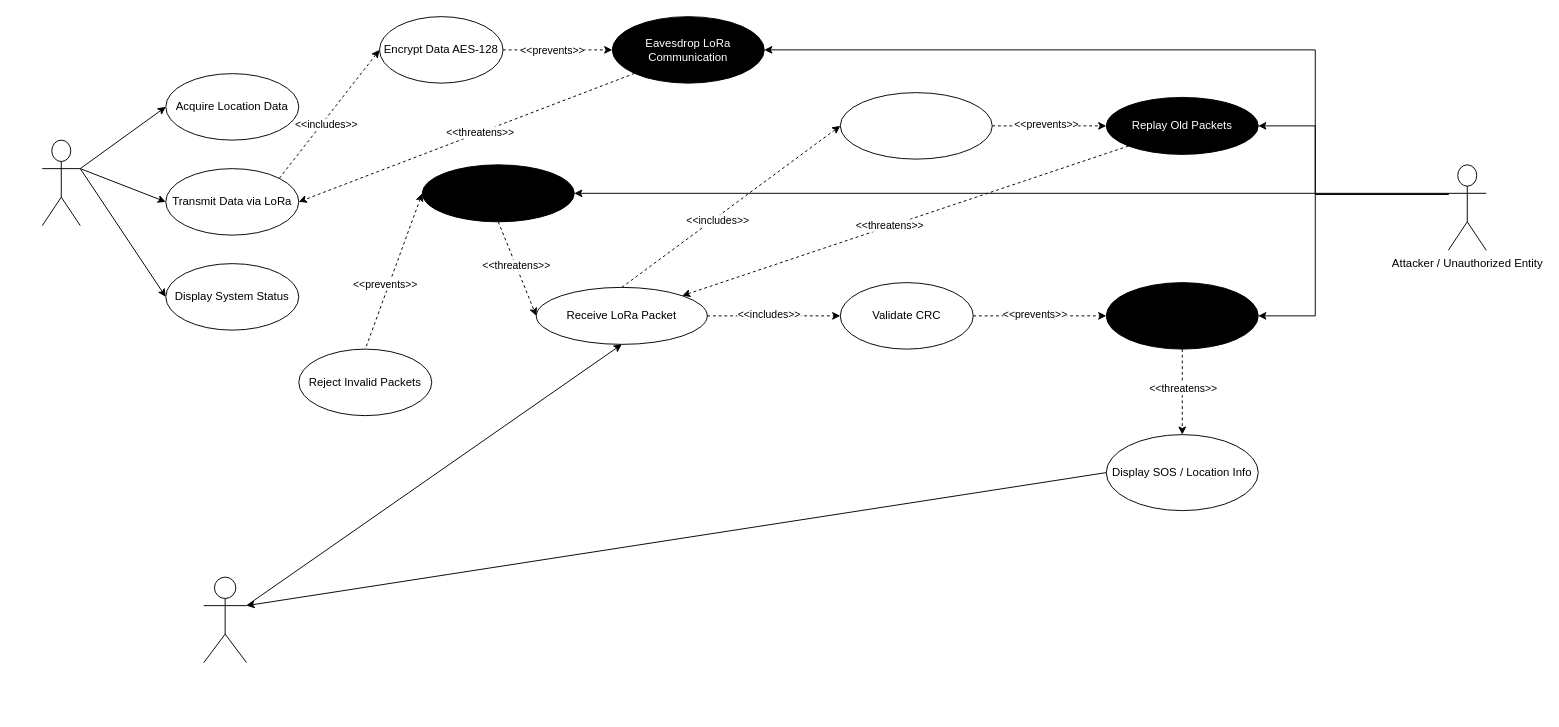
Some shapes in this 1559 by 727 pixel diagram are drawn without their labels. The shapes that lost their labels are listed below. From the top down, each one's box as (x1, y1, x2, y2) in pixels, then its label:
(839, 92, 992, 159): Check Packet Counter
(41, 139, 80, 226): Field Device User (Sender)
(421, 164, 574, 222): Inject Fake SOS Message
(1105, 282, 1258, 349): Tamper with Packet Data
(203, 576, 247, 663): Monitoring Station Operator (Receiver)
